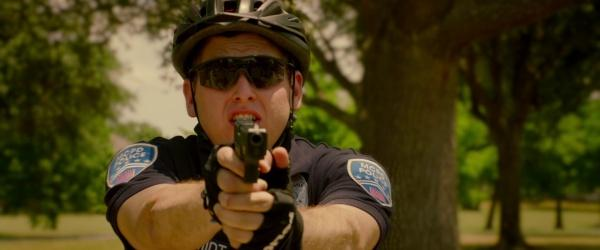Gun: (232, 120, 268, 185)
